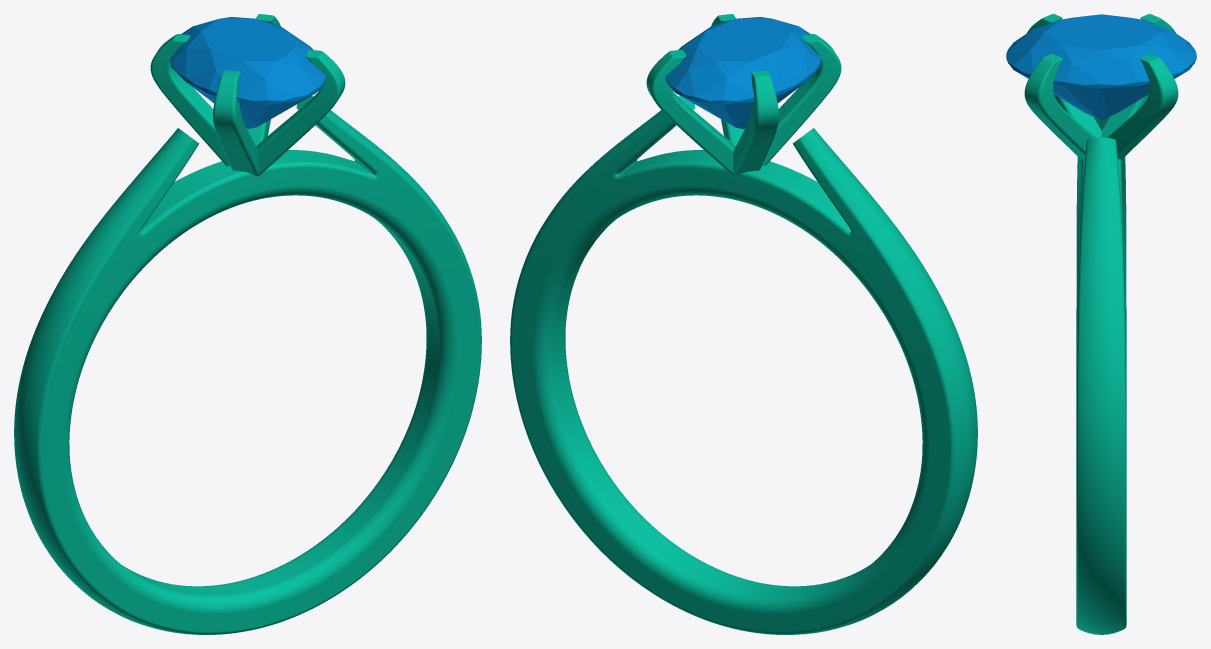
The picture shows the model from 3 angles, left to right: view 1: azimuth 30°, elevation 25°; view 2: azimuth 150°, elevation 25°; view 3: azimuth 270°, elevation 25°; orthographic projection.
Visible parts, largest first — view 1: VR1069(front).3dm, Diamond_Oval; view 2: VR1069(front).3dm, Diamond_Oval; view 3: VR1069(front).3dm, Diamond_Oval.
Boxes of the visible parts, left/top/right/bottom form: VR1069(front).3dm: left=14, top=14, right=481, bottom=634; Diamond_Oval: left=170, top=17, right=326, bottom=128; VR1069(front).3dm: left=510, top=14, right=977, bottom=634; Diamond_Oval: left=665, top=17, right=821, bottom=128; VR1069(front).3dm: left=1024, top=14, right=1178, bottom=634; Diamond_Oval: left=1006, top=14, right=1196, bottom=120.
Bounding box in the file's own units: 2.46 × 3.02 × 0.9028.
